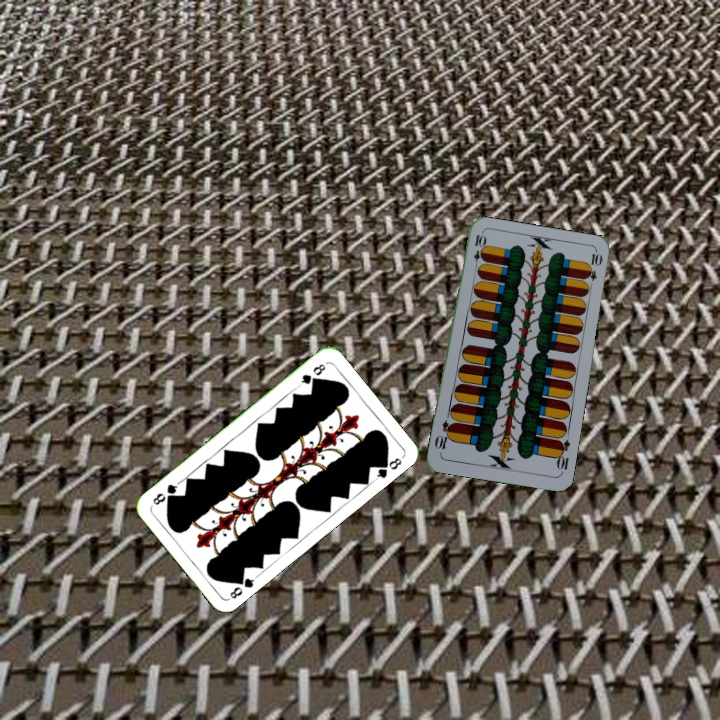E10: (552, 436, 573, 476), (469, 231, 486, 271)
G8: (225, 571, 260, 602), (295, 360, 328, 389)
